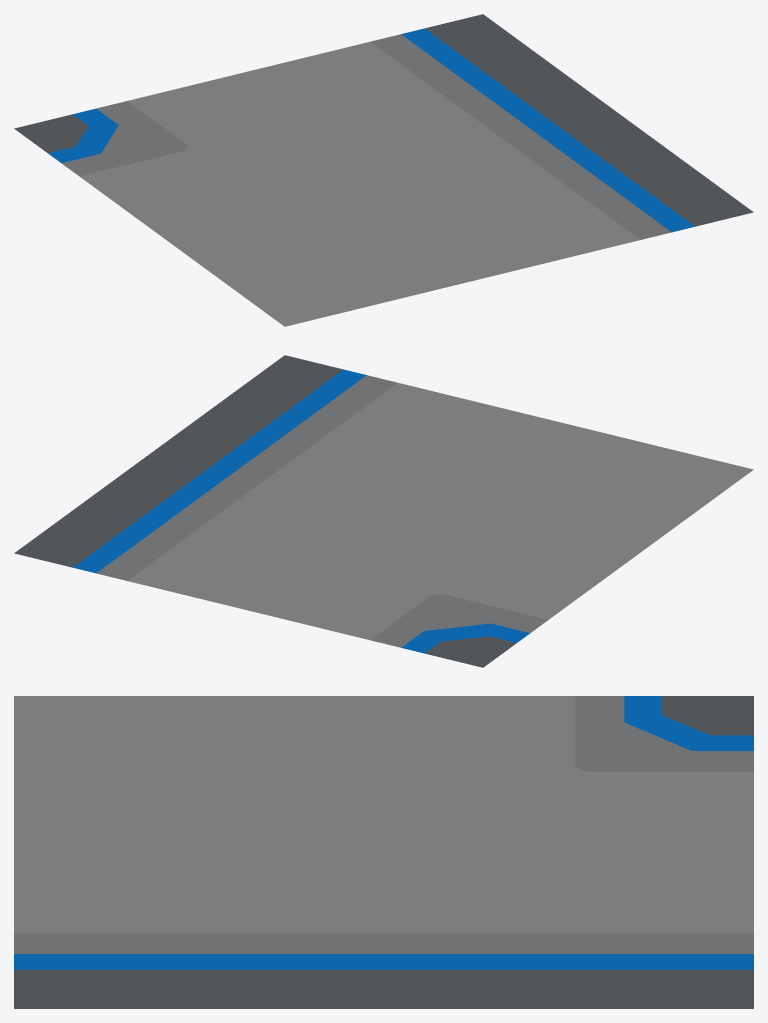
Rendered from Ceiling_type_B_026.003.fbx.
3 views of the same model, one above another, from view 1: azimuth 30°, elevation 25°; view 2: azimuth 150°, elevation 25°; view 3: azimuth 270°, elevation 25° (orthographic). The views are drawn at different scales.
Parts seen in each view (by area): view 1: Ceiling_type_B_026.003; view 2: Ceiling_type_B_026.003; view 3: Ceiling_type_B_026.003.
Boxes of the visible parts, bbox=[...] form: Ceiling_type_B_026.003: bbox=[14, 14, 753, 326]; Ceiling_type_B_026.003: bbox=[14, 355, 753, 667]; Ceiling_type_B_026.003: bbox=[14, 696, 753, 1008].
Bounding box in the file's own units: 400 × 400 × 6.18.
